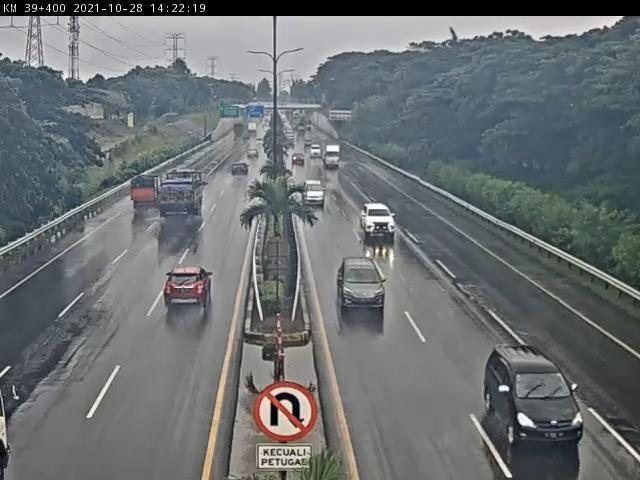car: (485, 343, 586, 449), (337, 257, 386, 314), (165, 268, 215, 311), (360, 203, 398, 241), (302, 179, 329, 207), (230, 162, 249, 178)
truck: (155, 169, 208, 218), (130, 175, 165, 208)
